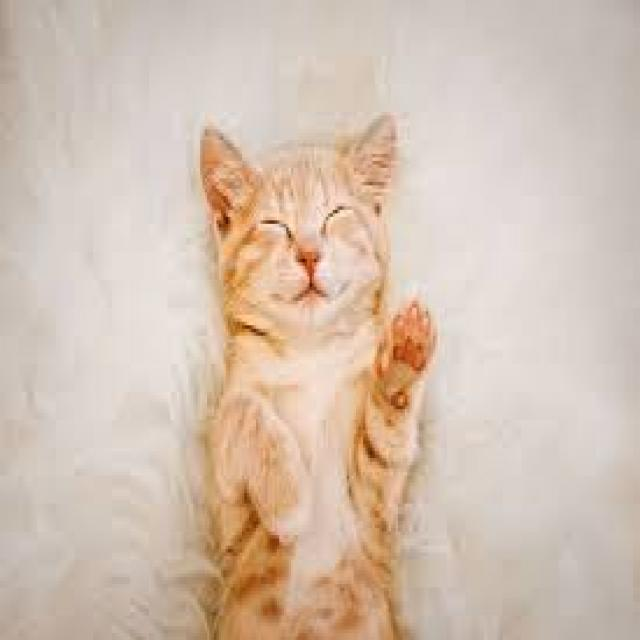Cat: (190, 107, 441, 640)
